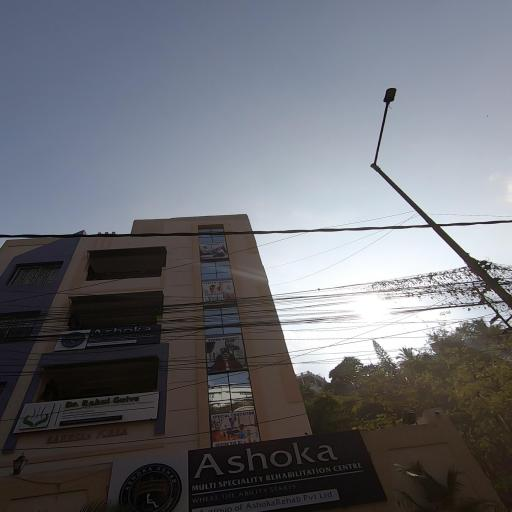off: (322, 70, 450, 214)
